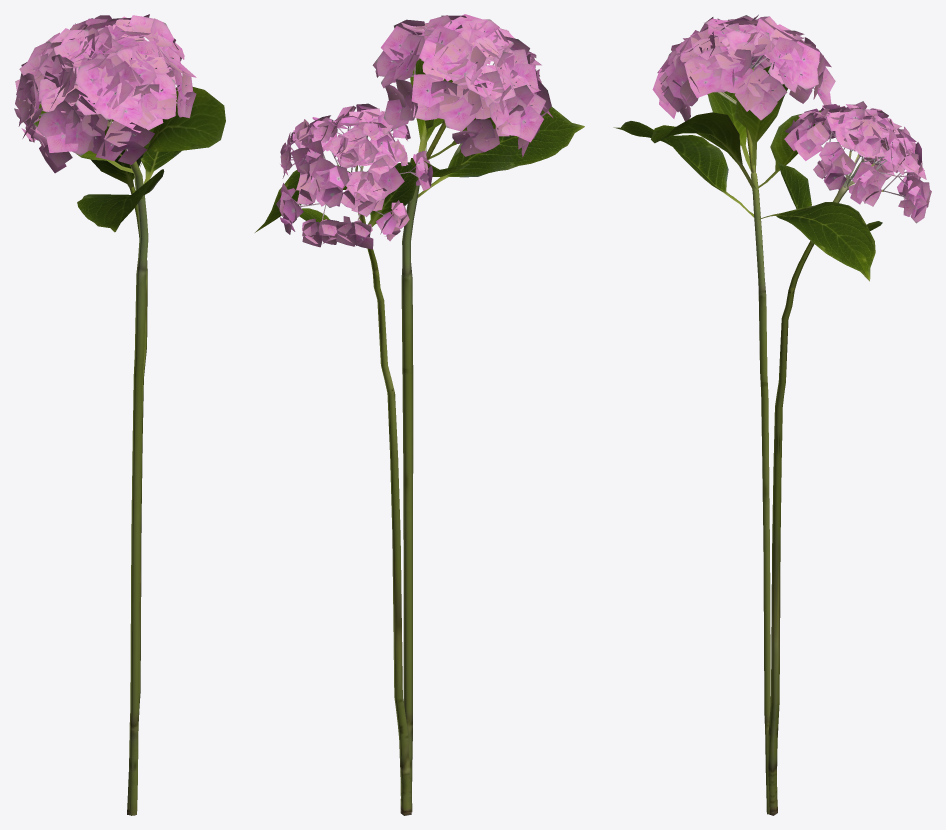
Rendered from Hydrangea_bush_long_pink.glb.
3 renders of one model, left to right at view 1: azimuth 30°, elevation 25°; view 2: azimuth 150°, elevation 25°; view 3: azimuth 270°, elevation 25°, orthographic. The views are drawn at different scales.
Visible parts, largest first — view 1: BUSHEKK; view 2: BUSHEKK; view 3: BUSHEKK.
Boxes of the visible parts, x1=… form: BUSHEKK: x1=14, y1=14, x2=225, y2=815; BUSHEKK: x1=255, y1=14, x2=584, y2=815; BUSHEKK: x1=613, y1=14, x2=931, y2=815.
Bounding box in the file's own units: 1.48 × 5.02 × 1.87.
1 material, 1 textured.
